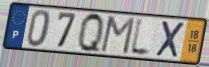0: (25, 8, 52, 49)
7: (55, 11, 80, 50)
L: (128, 15, 153, 60)
M: (99, 15, 137, 57)
Q: (77, 11, 105, 56)
X: (154, 19, 186, 60)
